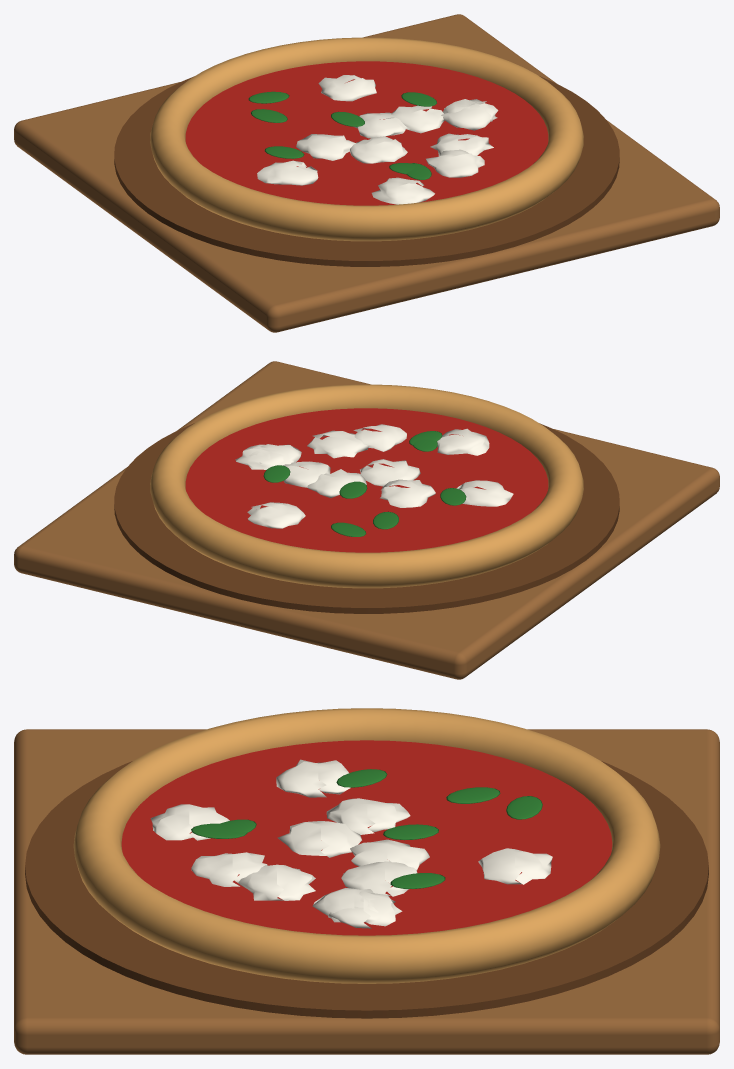
File: pizza-margherita.glb
3 renders of one model, top to bottom at view 1: azimuth 30°, elevation 25°; view 2: azimuth 150°, elevation 25°; view 3: azimuth 270°, elevation 25°, orthographic. The views are drawn at different scales.
Parts seen in each view (by area): view 1: pizza-margherita; view 2: pizza-margherita; view 3: pizza-margherita.
Boxes of the visible parts, x1,y1,x2,y2 form: pizza-margherita: [14, 14, 719, 332]; pizza-margherita: [14, 361, 719, 679]; pizza-margherita: [14, 708, 719, 1054].
Bounding box in the file's own units: 0.32 × 0.043 × 0.32.
